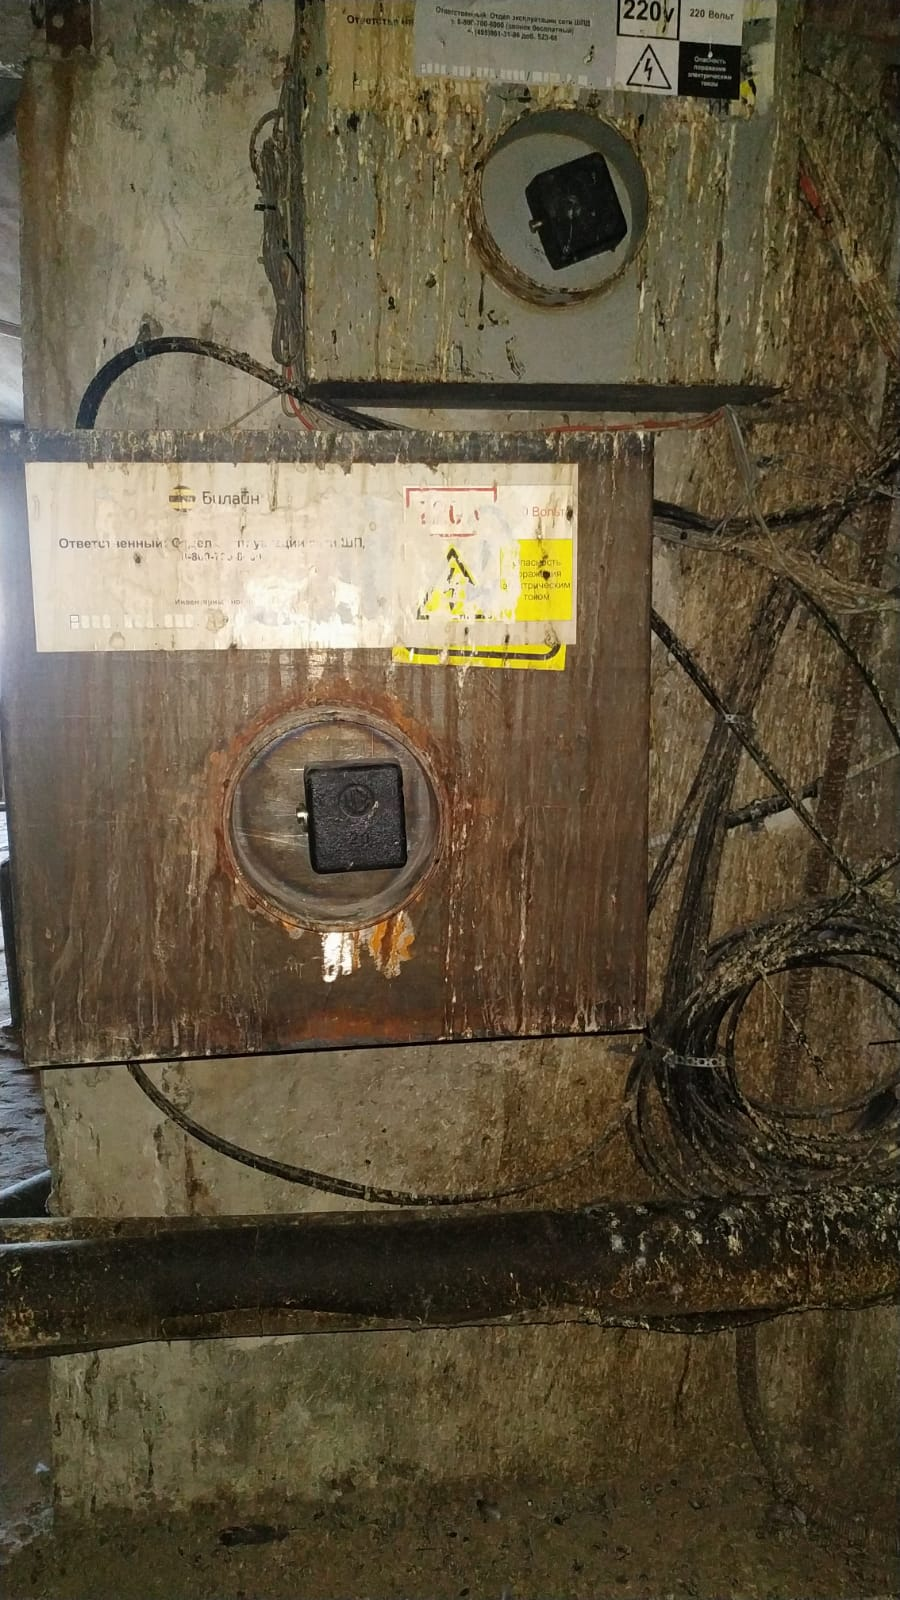shta-3: (295, 5, 807, 400)
shta-9: (3, 425, 662, 1076)
